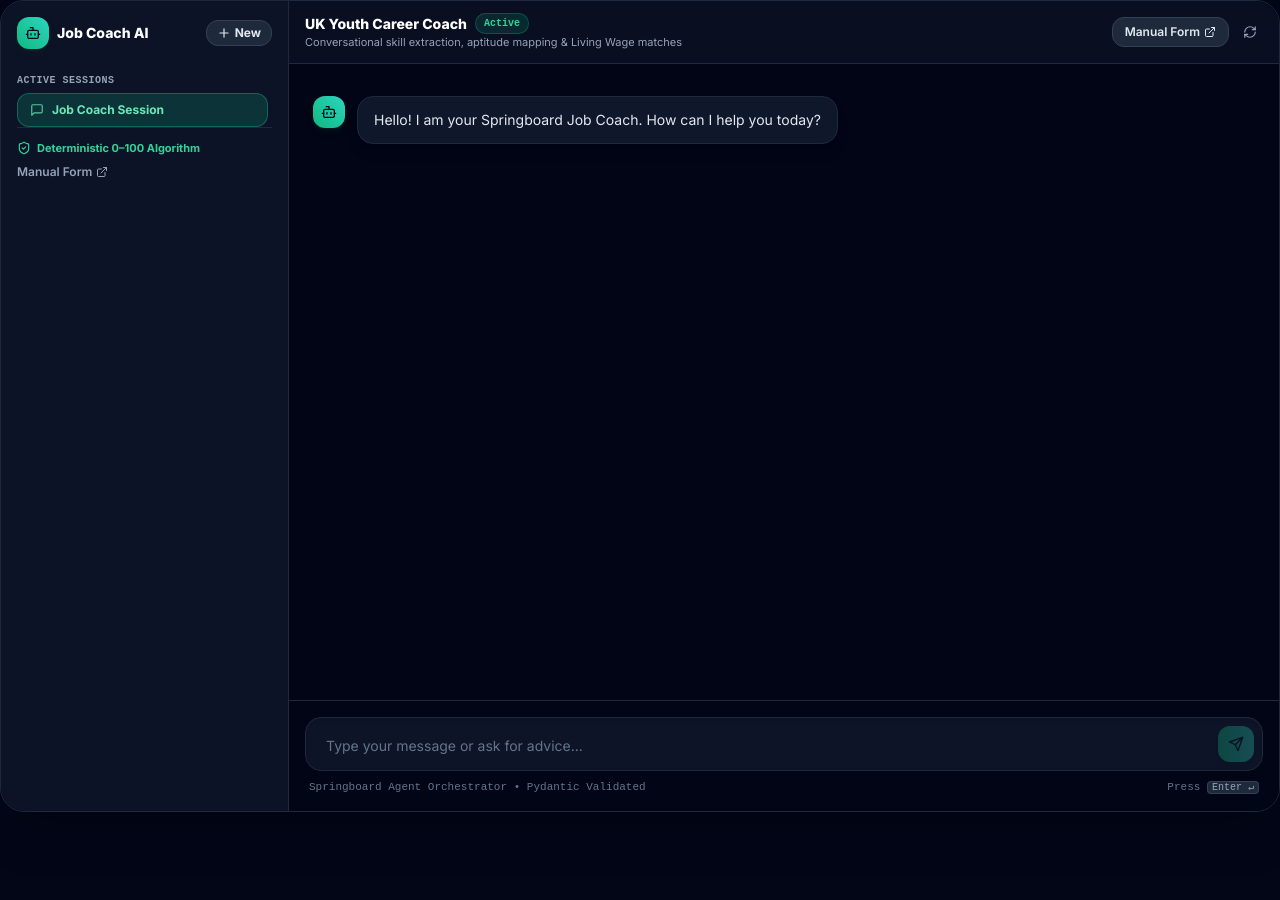
Test case: AgentChat Component › sends user message and displays assistant response with confirmation card
In the text box with placeholder "Type your message or ask for advice...": (762, 746) top-left (314, 730), bottom-right (1210, 762), type "I know Python and live in Chesham"
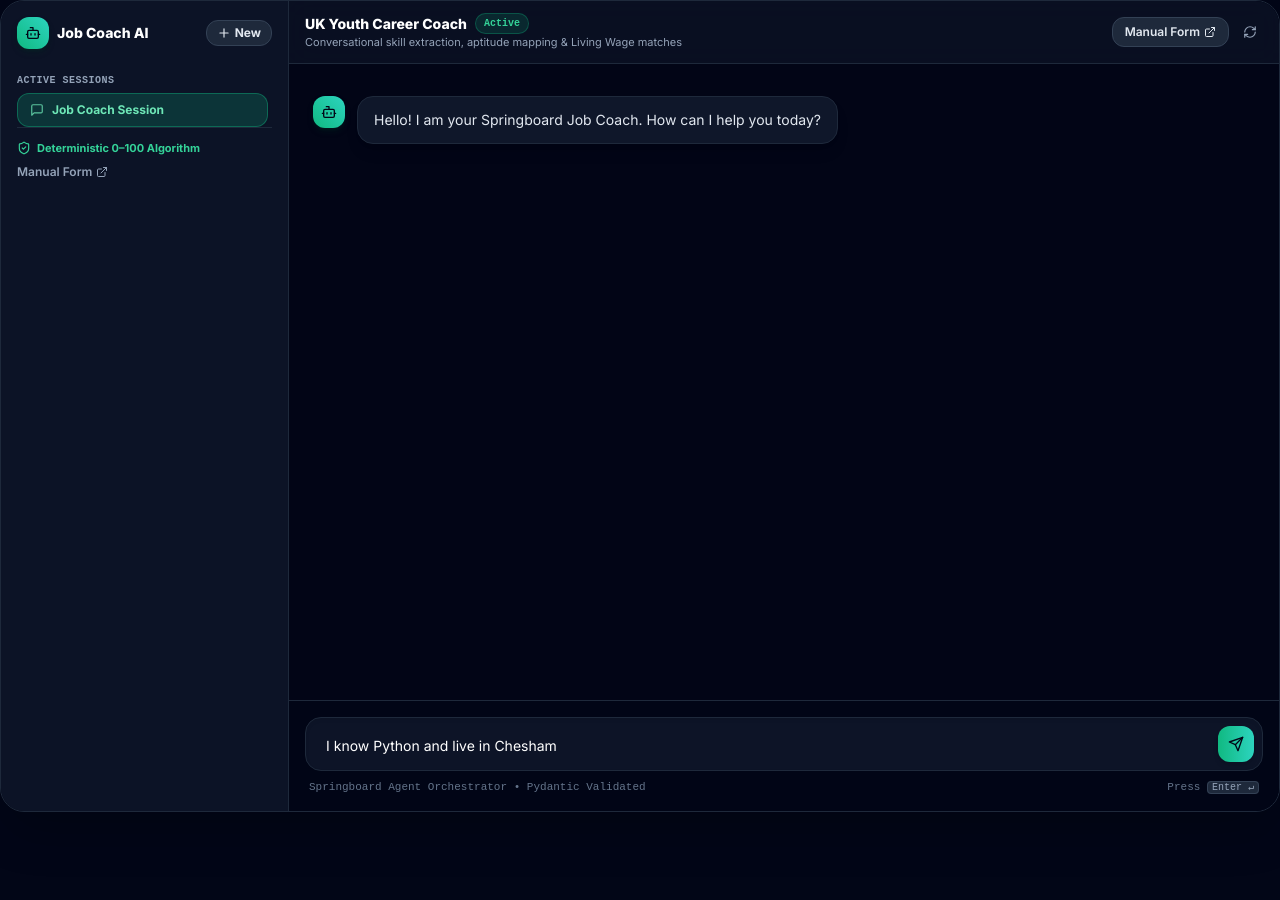
Click the 4th button: click(1236, 744) top-left (1218, 726), bottom-right (1254, 762)
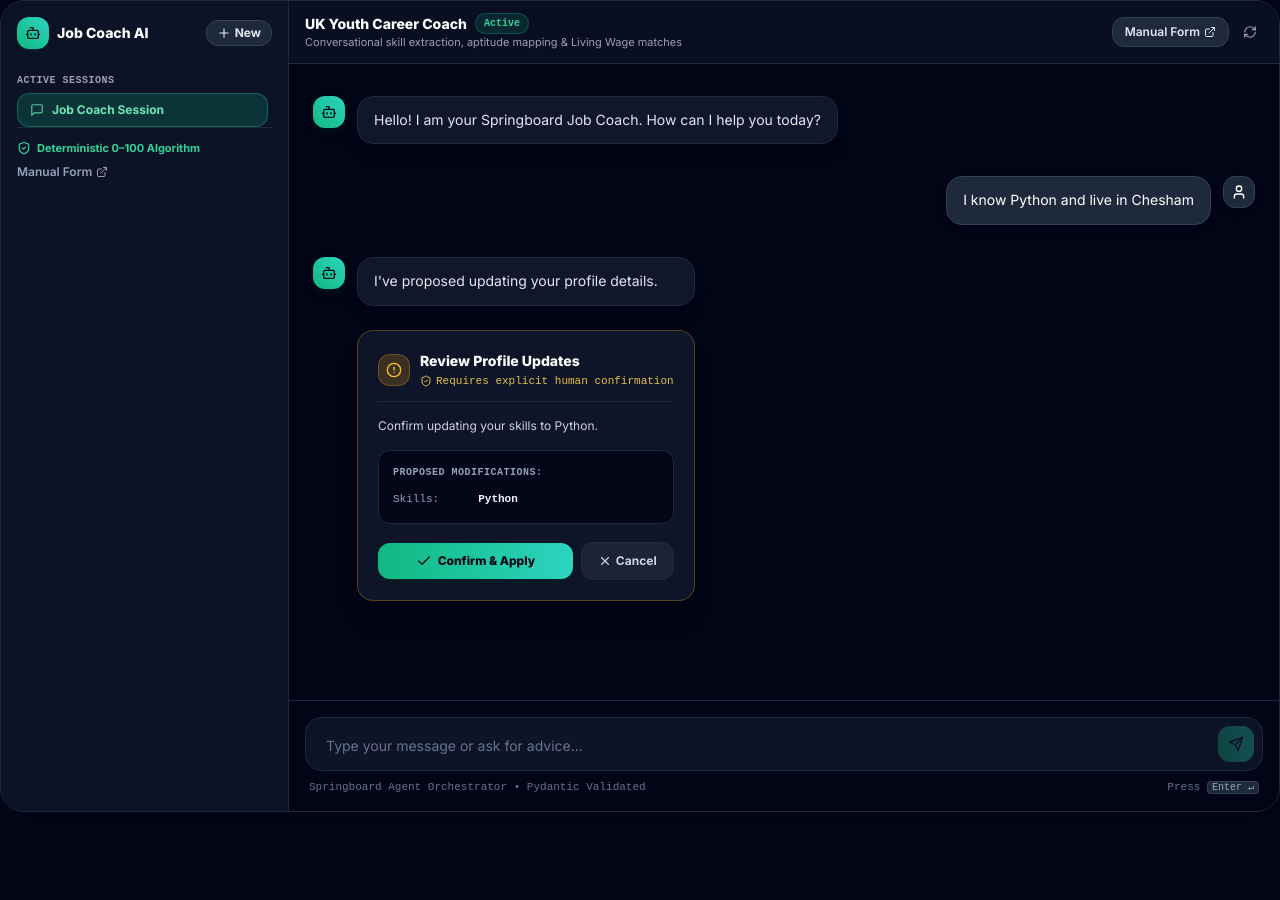
Result: the text "I've proposed updating your profile details." is shown at top-left (374, 270), bottom-right (678, 293)
Result: the heading "Review Profile Updates" is shown at top-left (420, 352), bottom-right (580, 369)
Result: the text "Confirm & Apply" is shown at top-left (438, 553), bottom-right (535, 569)
